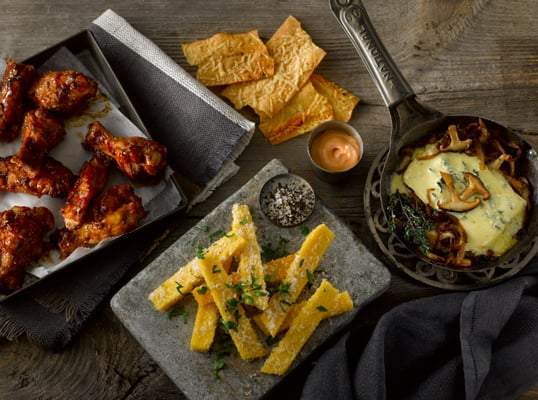sushi: (307, 120, 364, 176)
